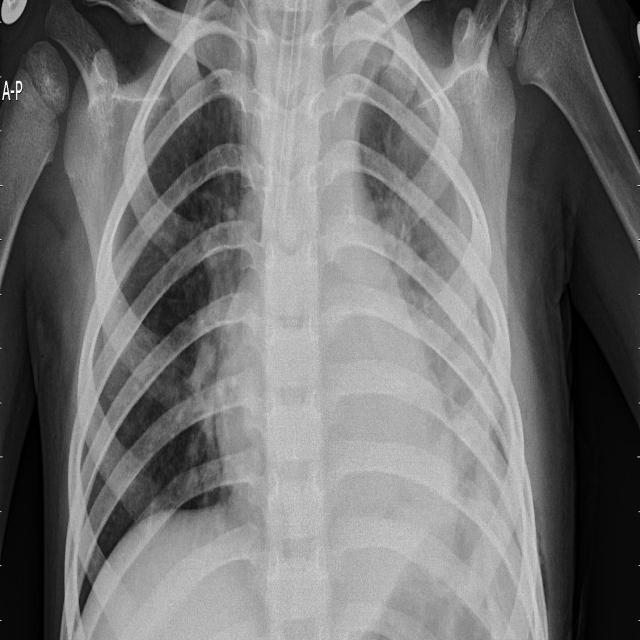high-pneumonia: (381, 187, 509, 516)
low-pneumonia: (195, 163, 252, 287), (188, 309, 225, 450)
